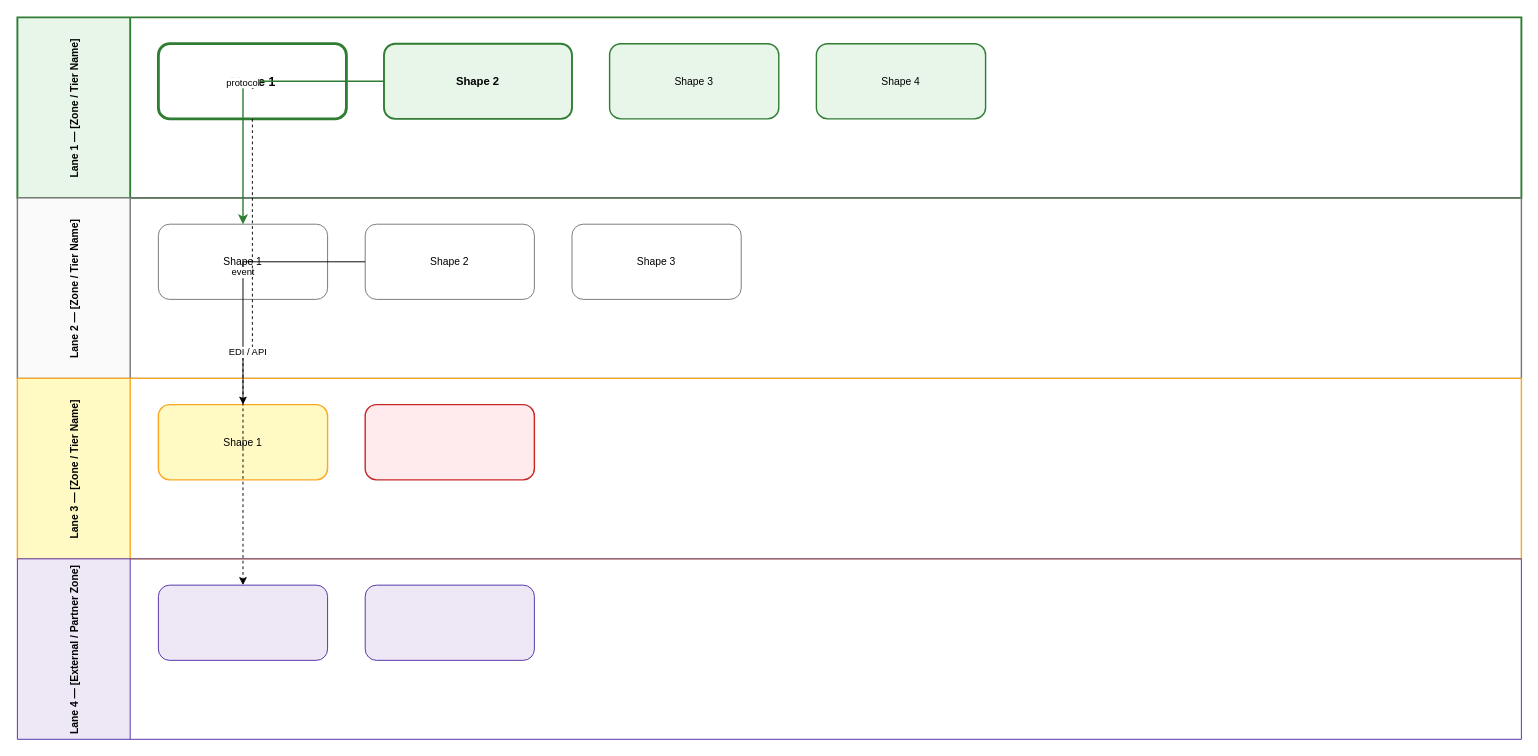
The diagram is 1538 pixels wide and 756 high, and some of its shapes have lost their labels. The shapes that lost their labels are listed below. From the top down, each one's centre as x and y in pixels, then its label:
At (x=449, y=442): "Shape 2 ⚠ Auth Gap".
At (x=242, y=622): "Partner 1".
At (x=449, y=622): "Partner 2".
